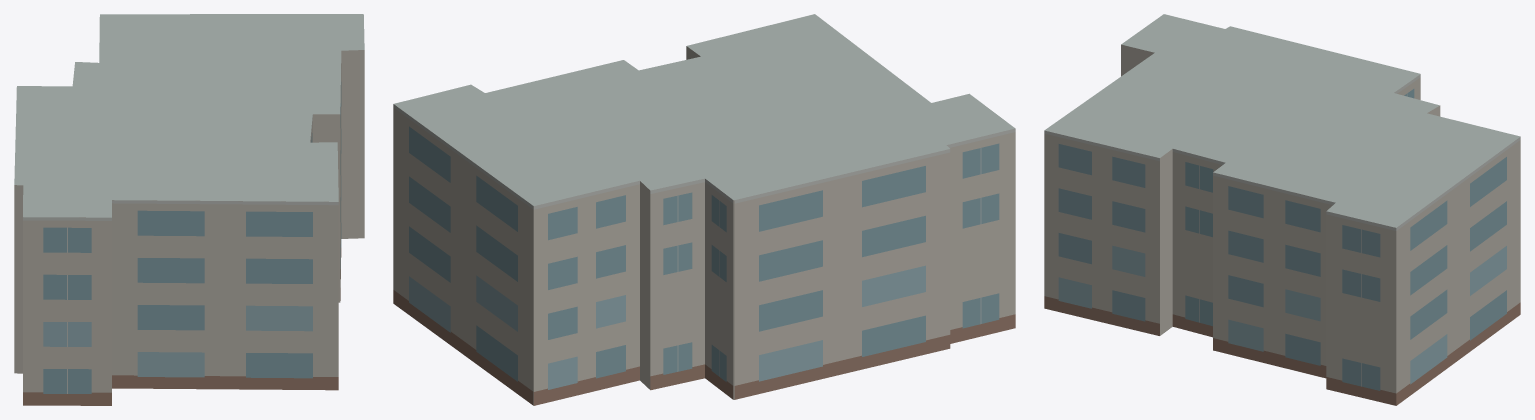
File: survey-upis-32492370.glb
3 renders of one model, left to right at view 1: azimuth 30°, elevation 25°; view 2: azimuth 150°, elevation 25°; view 3: azimuth 270°, elevation 25°, orthographic. The views are drawn at different scales.
Parts seen in each view (by area): view 1: survey-upis-32492370.tmp; view 2: survey-upis-32492370.tmp; view 3: survey-upis-32492370.tmp.
Part boxes in pixels (x1=…): survey-upis-32492370.tmp: x1=14, y1=14, x2=364, y2=405; survey-upis-32492370.tmp: x1=393, y1=14, x2=1015, y2=405; survey-upis-32492370.tmp: x1=1044, y1=14, x2=1520, y2=405.
Bounding box in the file's own units: 35.31 × 13.7 × 33.24.
